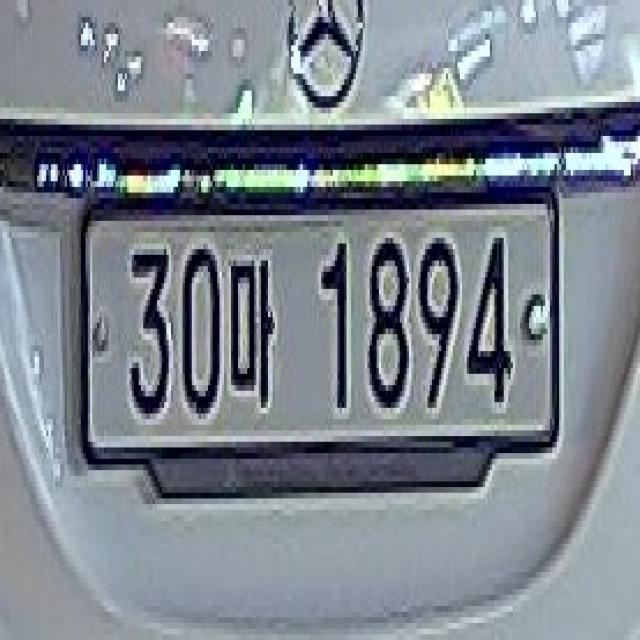0: (180, 244, 224, 419)
1: (319, 226, 351, 424)
3: (130, 244, 176, 431)
4: (464, 226, 513, 414)
8: (365, 227, 411, 419)
9: (416, 226, 462, 414)
license_plate: (79, 176, 564, 464)
ma: (226, 249, 275, 408)
